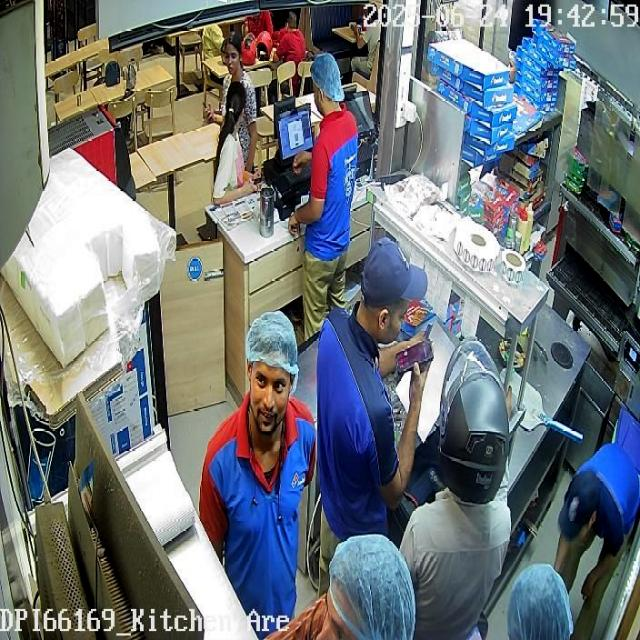helmet: (436, 338, 510, 503)
